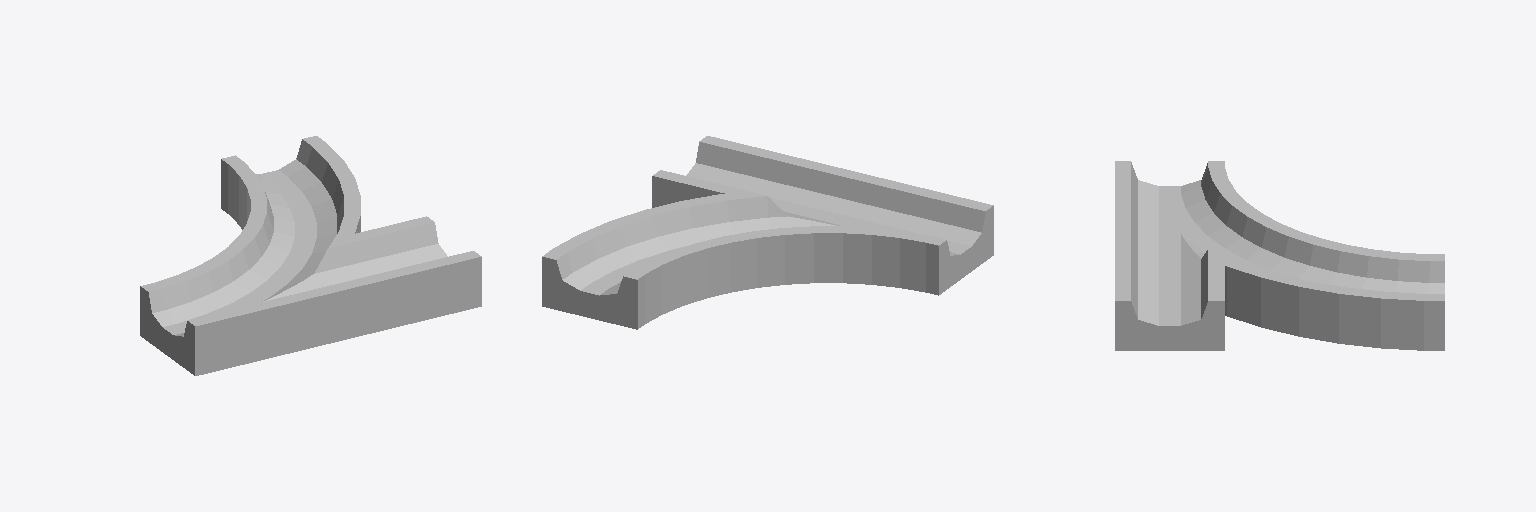
File: split-large-left.obj
The picture shows the model from 3 angles: view 1: azimuth 30°, elevation 25°; view 2: azimuth 150°, elevation 25°; view 3: azimuth 270°, elevation 25°; orthographic projection.
Parts seen in each view (by area): view 1: split-large-left; view 2: split-large-left; view 3: split-large-left.
Part boxes in pixels (bbox=[...]): split-large-left: bbox=[140, 136, 481, 375]; split-large-left: bbox=[542, 136, 993, 329]; split-large-left: bbox=[1115, 161, 1444, 350].
Size of the model in its own units: 3 by 0.5 by 3.